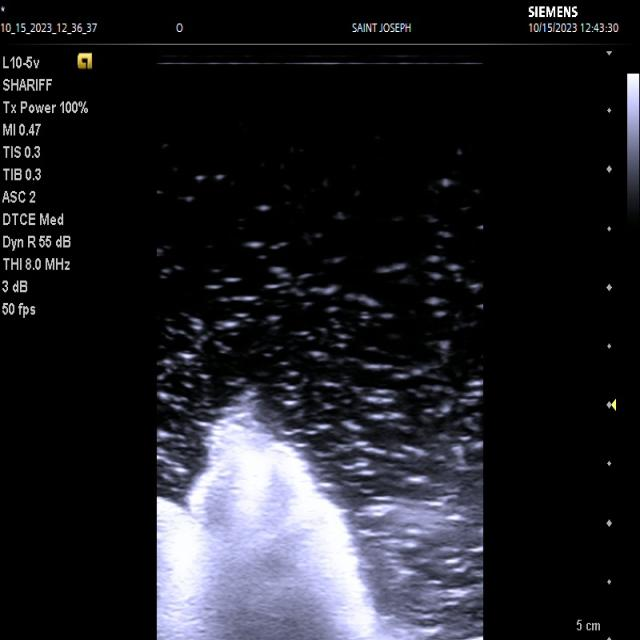tissue: (157, 406, 400, 640)
